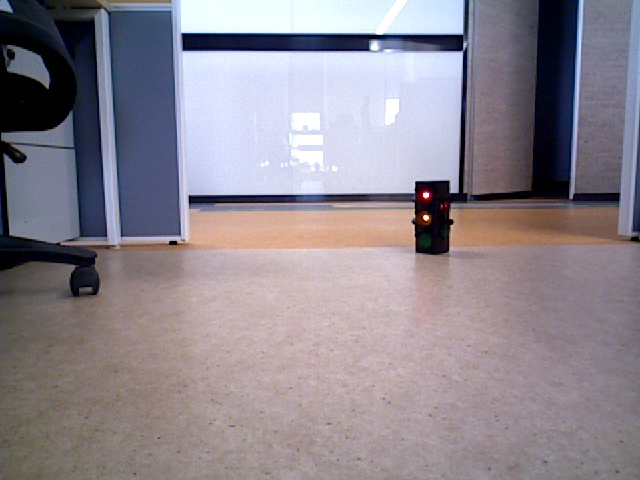red: (416, 184, 445, 248)
